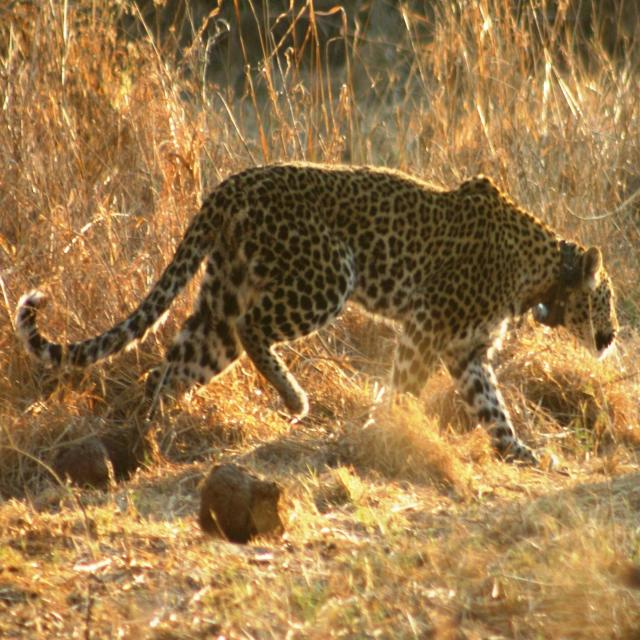Leopard: (0, 165, 626, 469)
